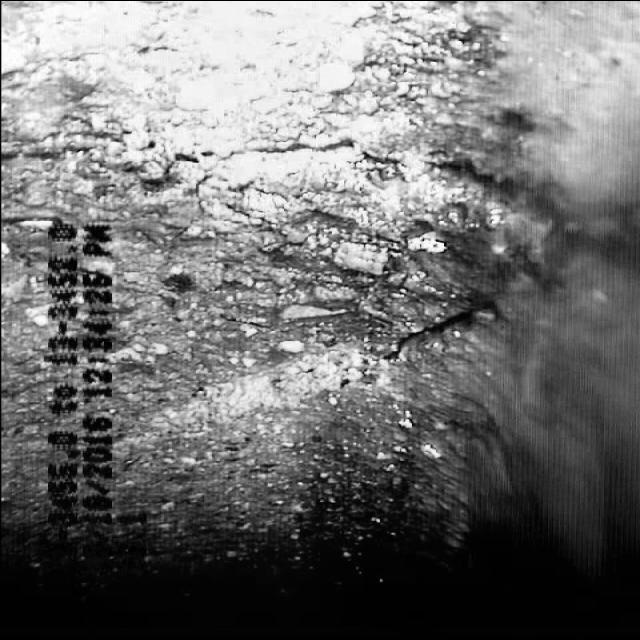Crack: (145, 94, 471, 228)
